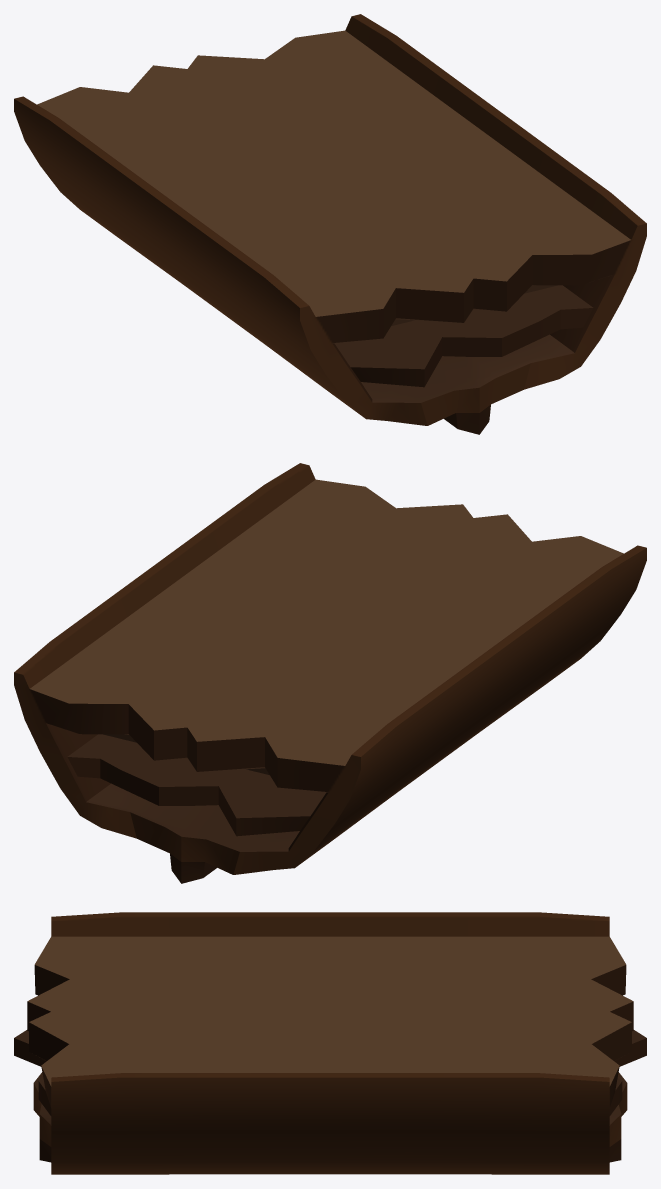
The model's file is Ship_Broken_Mid.FBX.
3 renders of one model, top to bottom at view 1: azimuth 30°, elevation 25°; view 2: azimuth 150°, elevation 25°; view 3: azimuth 270°, elevation 25°, orthographic. The views are drawn at different scales.
Visible parts, largest first — view 1: Object069; view 2: Object069; view 3: Object069.
Boxes of the visible parts, x1,y1,x2,y2 form: Object069: (14, 14, 646, 434); Object069: (14, 463, 646, 883); Object069: (14, 912, 646, 1174).
Bounding box in the file's own units: 921 × 429 × 1491.
